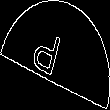P_S: (37, 25, 73, 85)
